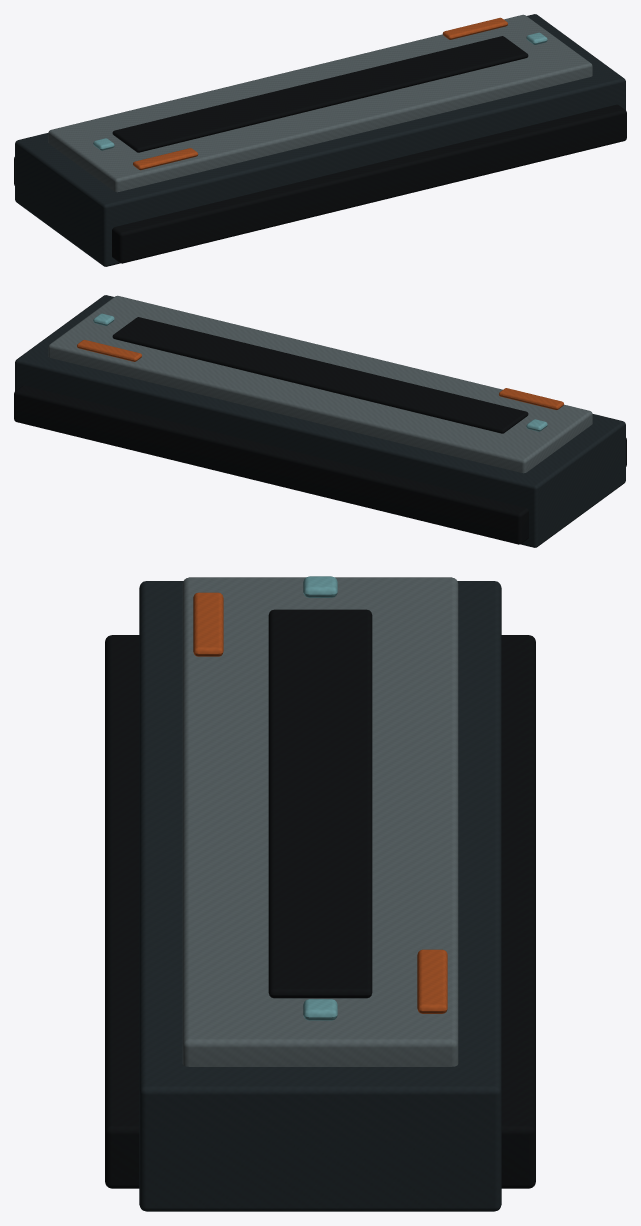
File: FloorCableCover.fbx
3 renders of one model, top to bottom at view 1: azimuth 30°, elevation 25°; view 2: azimuth 150°, elevation 25°; view 3: azimuth 270°, elevation 25°, orthographic. The views are drawn at different scales.
Visible parts, largest first — view 1: FloorCableCover_Mesh; view 2: FloorCableCover_Mesh; view 3: FloorCableCover_Mesh.
Part boxes in pixels (x1,y1,x2,y2): FloorCableCover_Mesh: (14, 14, 626, 266); FloorCableCover_Mesh: (14, 295, 626, 547); FloorCableCover_Mesh: (105, 576, 535, 1211).
Bounding box in the file's own units: 140 × 21.2 × 50.
Materials: 5 (5 with a texture image).
